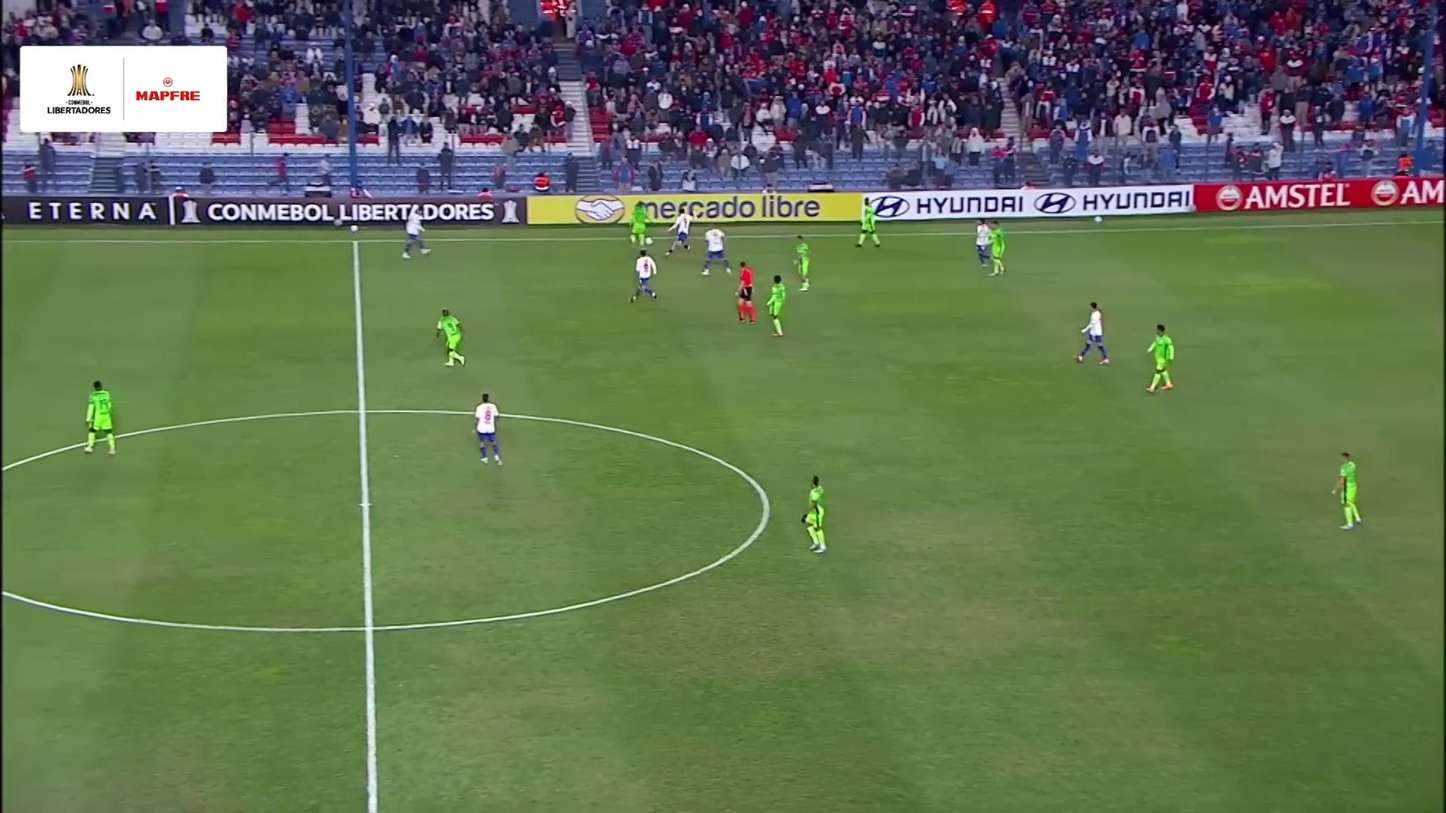ball: (641, 236, 655, 245)
player: (79, 379, 121, 459), (1329, 450, 1367, 532), (798, 473, 833, 555), (469, 392, 506, 468), (1073, 300, 1114, 368), (1142, 323, 1179, 396), (434, 308, 469, 370), (628, 249, 661, 305), (699, 223, 733, 277), (399, 209, 433, 261), (764, 274, 789, 339), (623, 194, 652, 247), (854, 198, 883, 250), (665, 208, 696, 256), (986, 219, 1009, 278), (791, 234, 814, 291), (973, 217, 994, 272)
referee: (733, 259, 759, 326)
